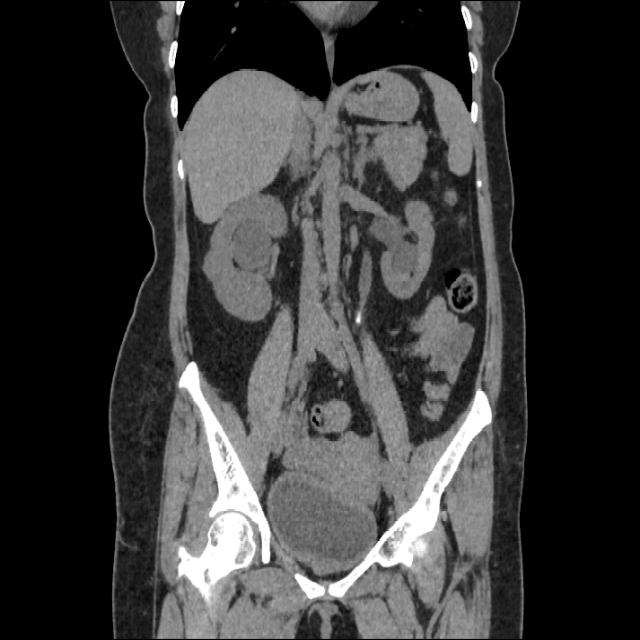kidney: (234, 221, 282, 307)
